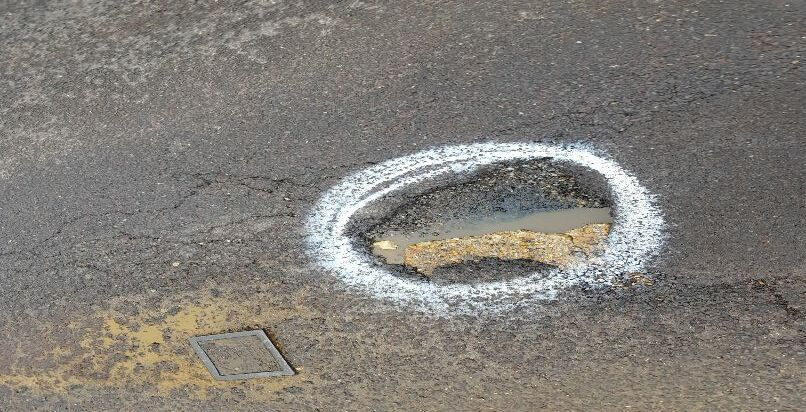pothole: (349, 153, 621, 278)
